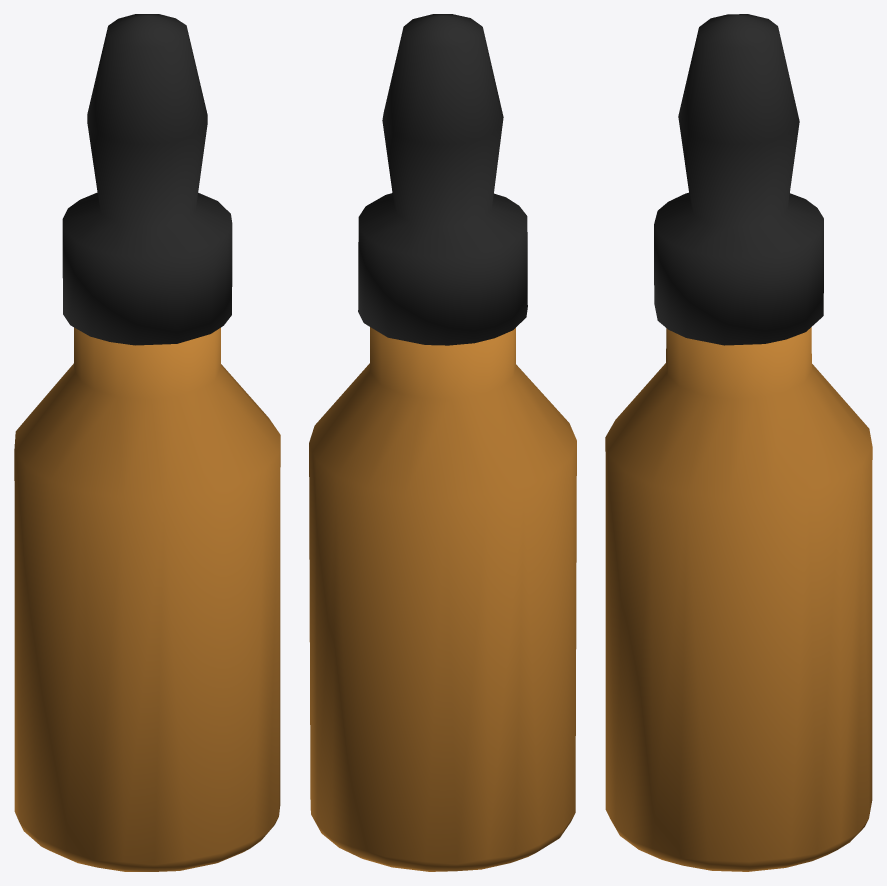
Rendered from SM_DropperBottle_30.glb.
The picture shows the model from 3 angles, left to right: view 1: azimuth 30°, elevation 25°; view 2: azimuth 150°, elevation 25°; view 3: azimuth 270°, elevation 25°; orthographic projection.
Parts seen in each view (by area): view 1: SM_DropperBottle_30; view 2: SM_DropperBottle_30; view 3: SM_DropperBottle_30.
Boxes of the visible parts, box(x1,y1,x2,y2) form: SM_DropperBottle_30: box(14, 14, 280, 871); SM_DropperBottle_30: box(309, 14, 576, 871); SM_DropperBottle_30: box(605, 14, 872, 871).
Size of the model in its own units: 0.033 by 0.11 by 0.033.
